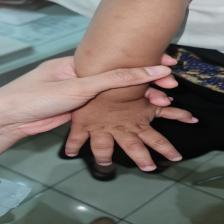DA: (84, 107, 155, 134)
